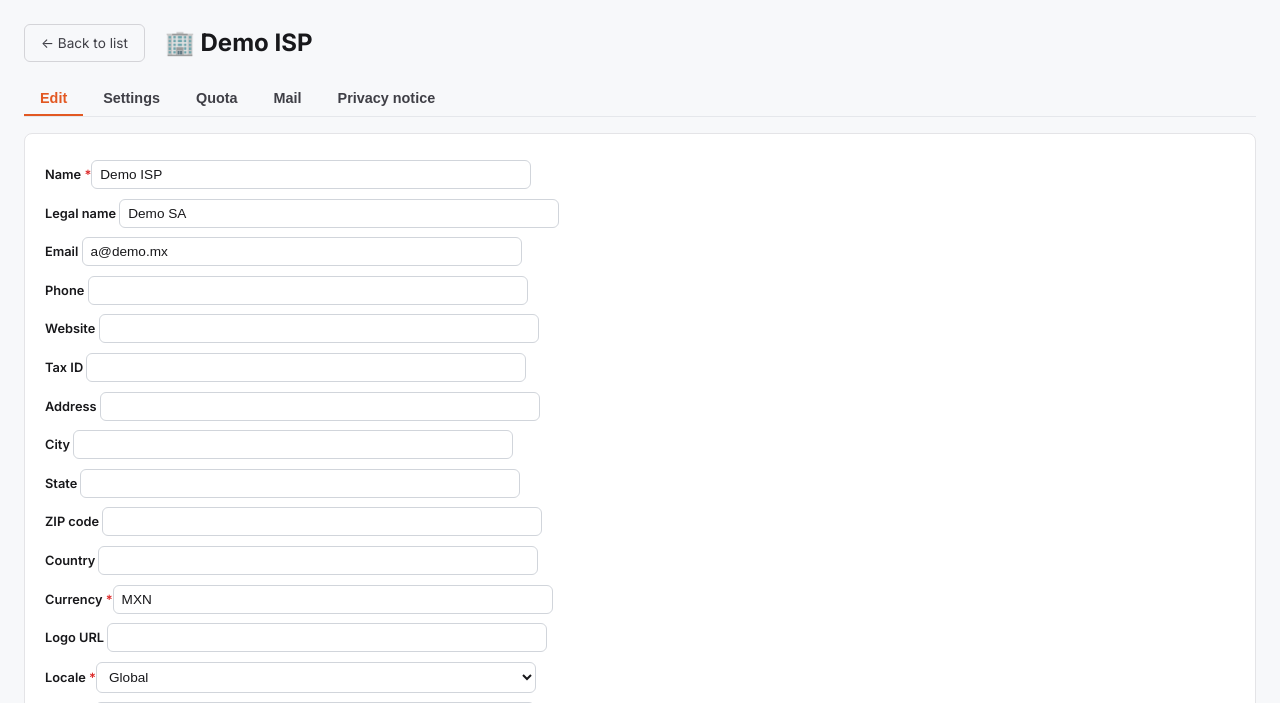
Test: OrganizationDetail page › Mail tab lists all four function identities with their status
Expected: the heading "🏢 Demo ISP" is shown, [165,25,312,61]
Click the button "Mail" at (288, 99), box [258,82,318,116]
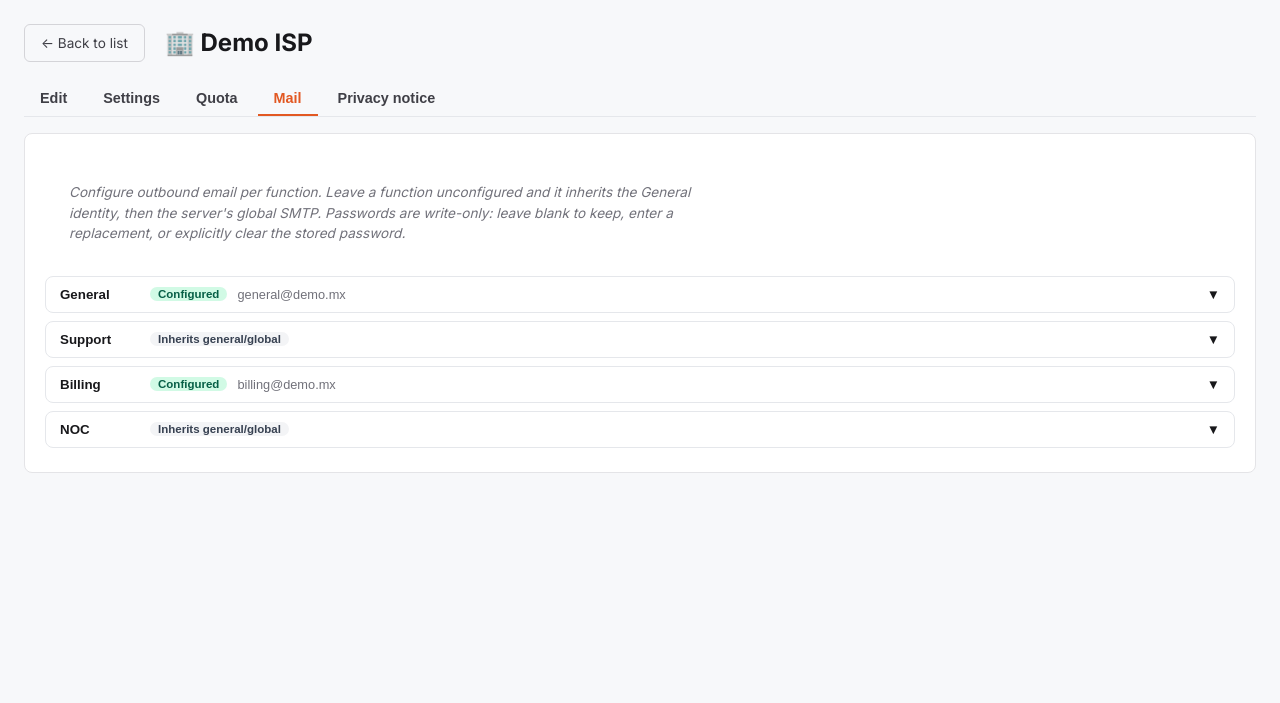
Expected: the text "billing@demo.mx" is shown, [237,377,336,392]
